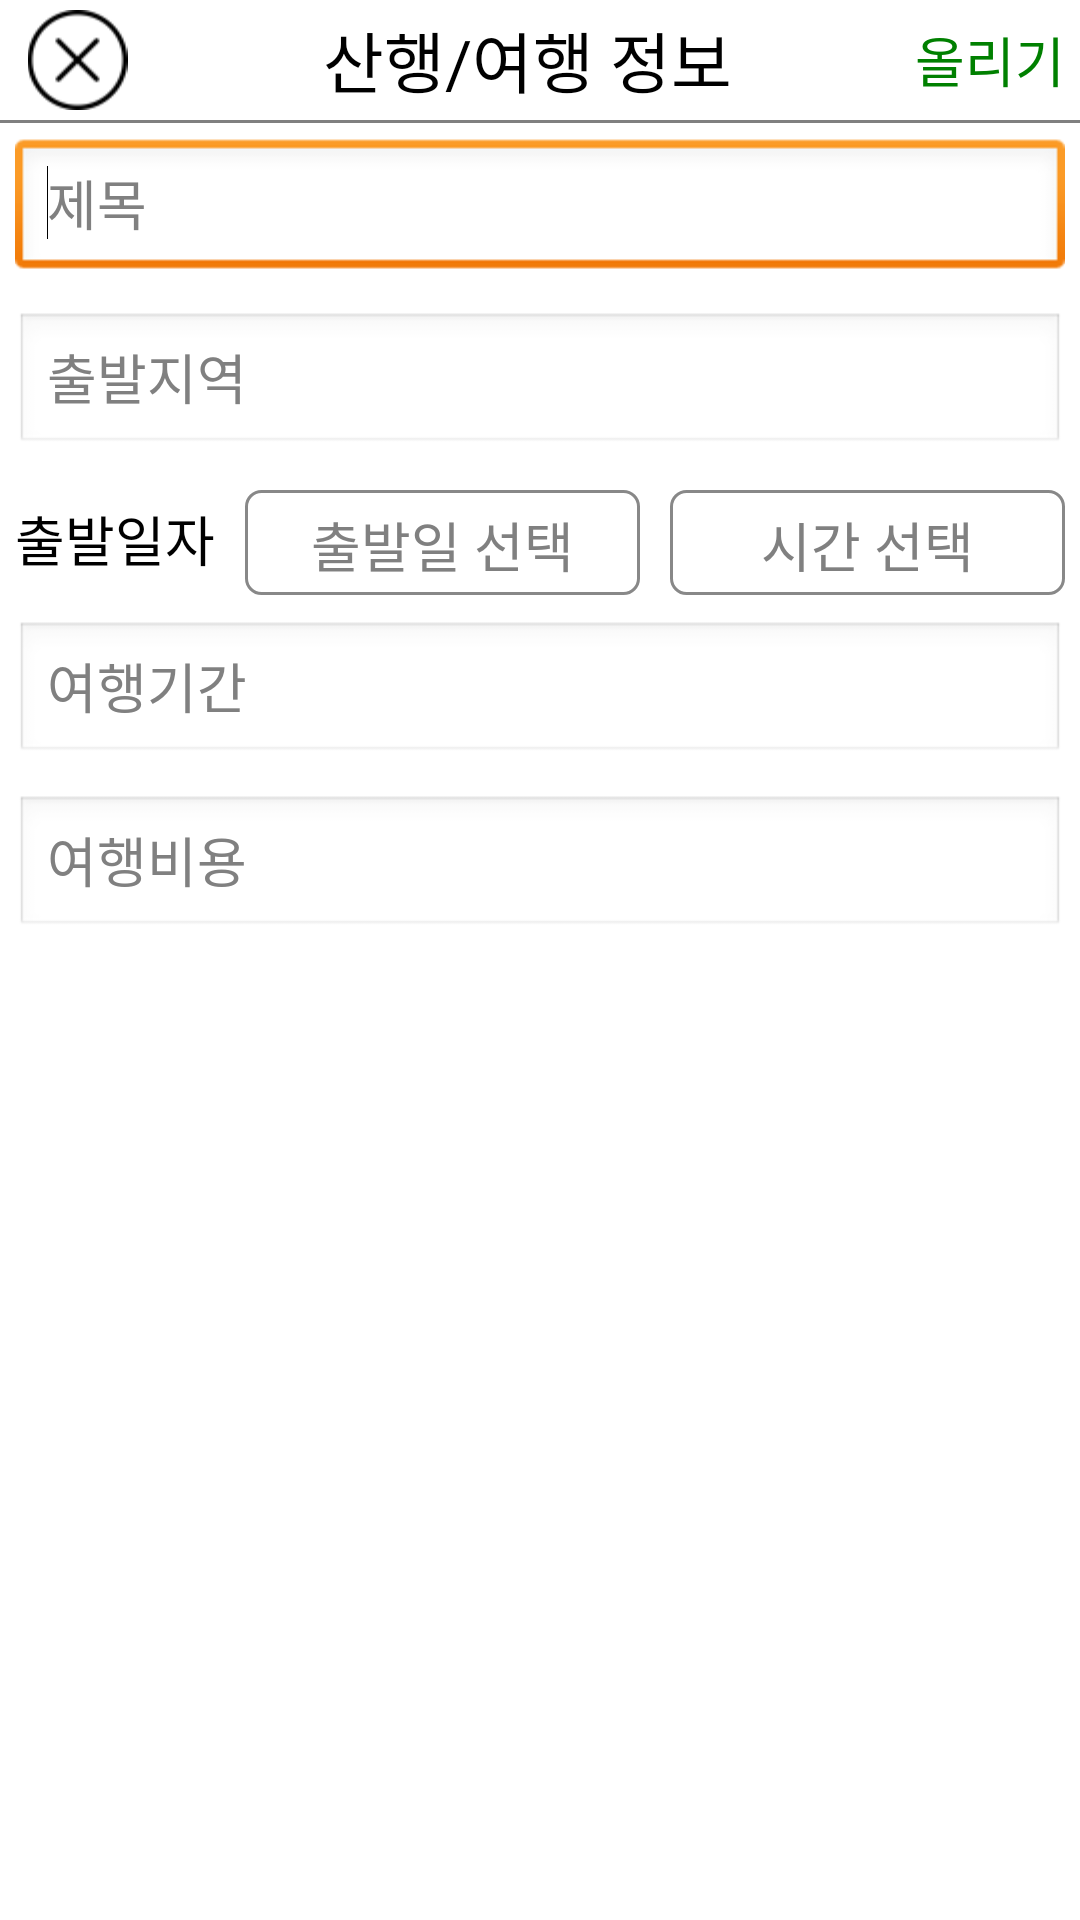

Point at icon controls on the screen. Image size 1080*1920, points as [x,y].
xbutton: [78,60]
